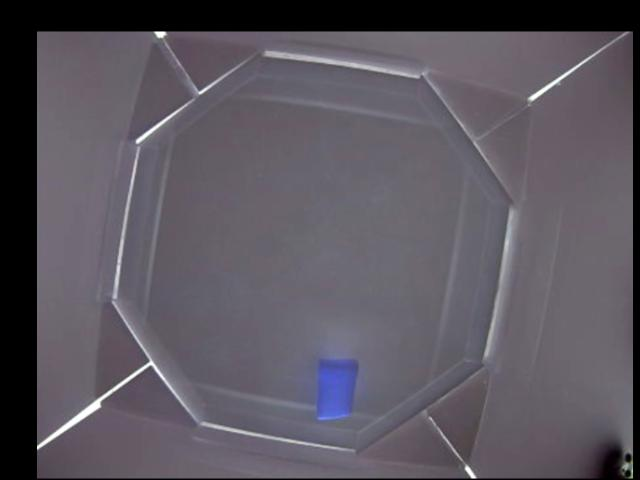Potato: (317, 358, 360, 419)
